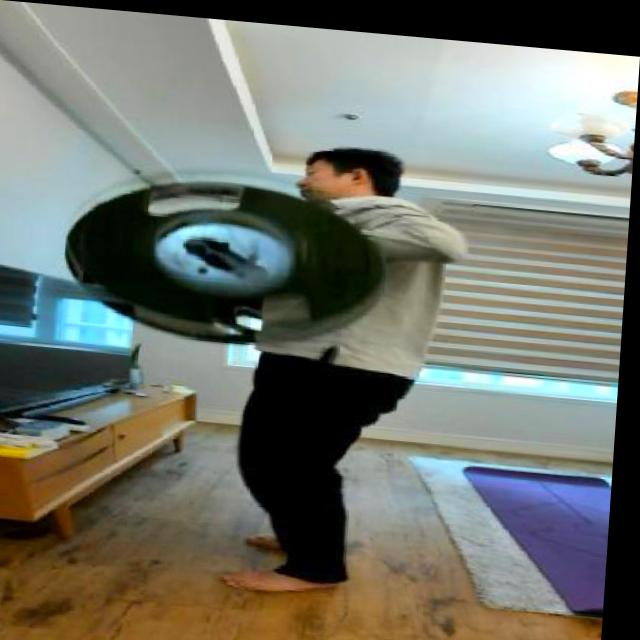barbell: (63, 158, 397, 357)
